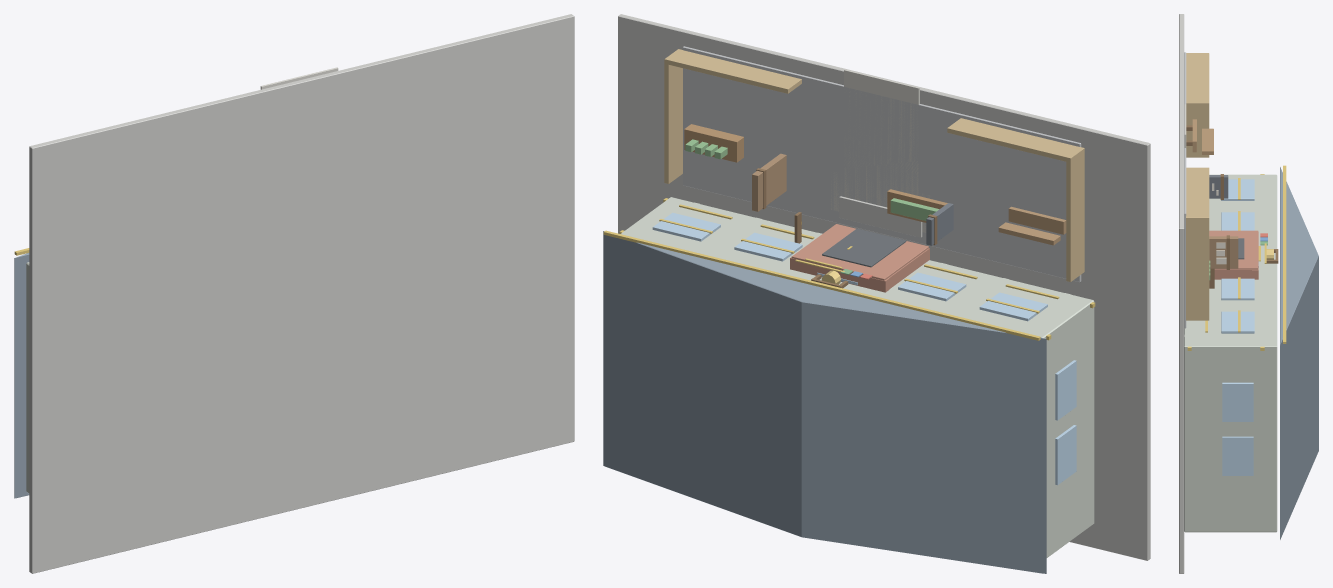
Rendered from primaryschool.fbx.
3 renders of one model, left to right at view 1: azimuth 30°, elevation 25°; view 2: azimuth 150°, elevation 25°; view 3: azimuth 270°, elevation 25°, orthographic. The views are drawn at different scales.
Parts seen in each view (by area): view 1: GroundBase, Roof_BlueGray, MainHall; view 2: Roof_BlueGray, GroundBase, SchoolYard, MainHall, FrontPath, EntranceBrickFrame, Fence_Front_Left, Fence_Front_Right, Fence_Left, Roof_FrontTrim, Fence_Right, FrontDoor (+13 smaller); view 3: MainHall, Roof_BlueGray, GroundBase, Fence_Right, Fence_Front_Right, Fence_Front_Left, SideWindow_R_01, SideWindow_R_02, EntranceBrickFrame, Fence_Left, NoticeBoard, FrontWindows_04 (+8 smaller).
Part boxes in pixels (x1,y1,x2,y2): GroundBase: (29,14,574,573); Roof_BlueGray: (14,253,29,498); MainHall: (26,262,29,492); Roof_BlueGray: (603,231,1046,573); GroundBase: (618,14,1150,560); SchoolYard: (683,46,1081,282); MainHall: (621,197,1094,557); FrontPath: (844,69,919,200); EntranceBrickFrame: (791,224,928,280); Fence_Front_Left: (947,118,1084,162); Fence_Front_Right: (664,49,801,93); Fence_Left: (1066,153,1084,281); Roof_FrontTrim: (603,230,1040,340); Fence_Right: (664,63,682,183); FrontDoor: (822,228,906,267); MainHall: (1184,174,1277,532); Roof_BlueGray: (1280,167,1318,539); GroundBase: (1179,14,1184,573); Fence_Right: (1186,221,1209,320); Fence_Front_Right: (1186,167,1209,221); Fence_Front_Left: (1186,53,1209,106); SideWindow_R_01: (1222,436,1253,475); SideWindow_R_02: (1222,382,1253,421); EntranceBrickFrame: (1209,230,1258,269); Fence_Left: (1186,107,1209,157); NoticeBoard: (1209,236,1238,268); FrontWindows_04: (1221,278,1254,300).
Size of the model in its own units: 1200 by 905 by 330.
